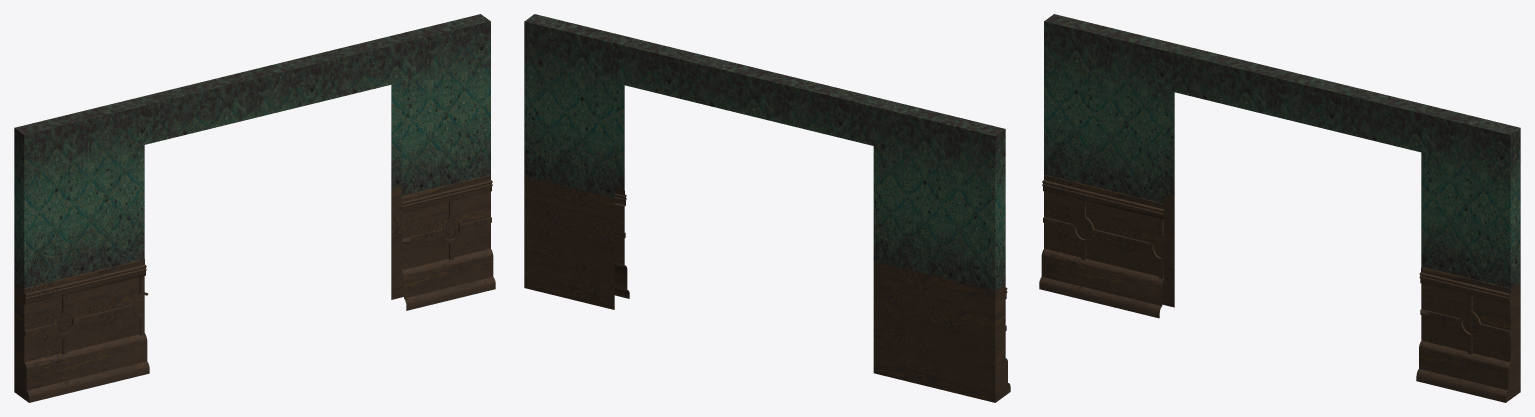
The model's file is Entrance_wallfbx.fbx.
3 views of the same model, side by side, from view 1: azimuth 30°, elevation 25°; view 2: azimuth 150°, elevation 25°; view 3: azimuth 330°, elevation 25° (orthographic).
Visible parts, largest first — view 1: Wall.003; view 2: Wall.003; view 3: Wall.003.
Boxes of the visible parts, x1,y1,x2,y2 form: Wall.003: (14,14,495,402); Wall.003: (524,14,1010,402); Wall.003: (1039,14,1520,402).
Bounding box in the file's own units: 550 × 298 × 30.5.
